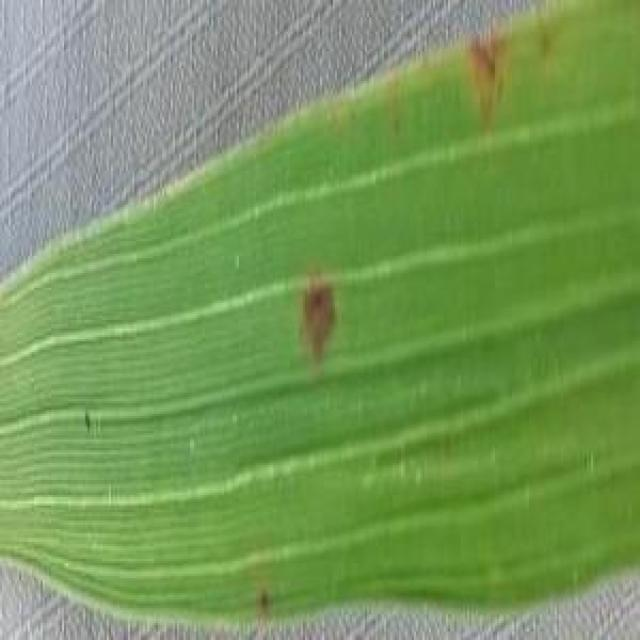Brown_Spot: (451, 49, 533, 112), (294, 278, 345, 356)
